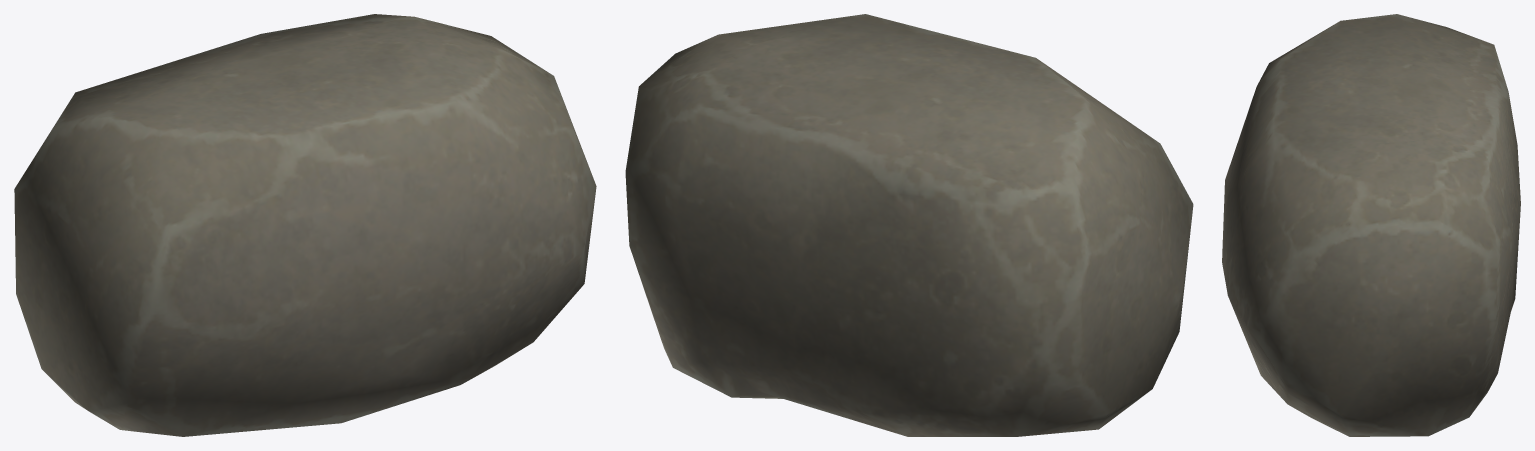
Rendered from MSH_fwOF_Debris_Single_03.fbx.
The picture shows the model from 3 angles, left to right: view 1: azimuth 30°, elevation 25°; view 2: azimuth 150°, elevation 25°; view 3: azimuth 270°, elevation 25°; orthographic projection. The views are drawn at different scales.
Visible parts, largest first — view 1: MSH_fwOF_Debris_Single_03_LOD0; view 2: MSH_fwOF_Debris_Single_03_LOD0; view 3: MSH_fwOF_Debris_Single_03_LOD0.
Part boxes in pixels (bbox=[...]): MSH_fwOF_Debris_Single_03_LOD0: bbox=[14, 14, 596, 436]; MSH_fwOF_Debris_Single_03_LOD0: bbox=[625, 14, 1193, 436]; MSH_fwOF_Debris_Single_03_LOD0: bbox=[1222, 14, 1520, 436].
Size of what is drawn, in the model's own units: 0.5105 by 0.3205 by 0.3178.
